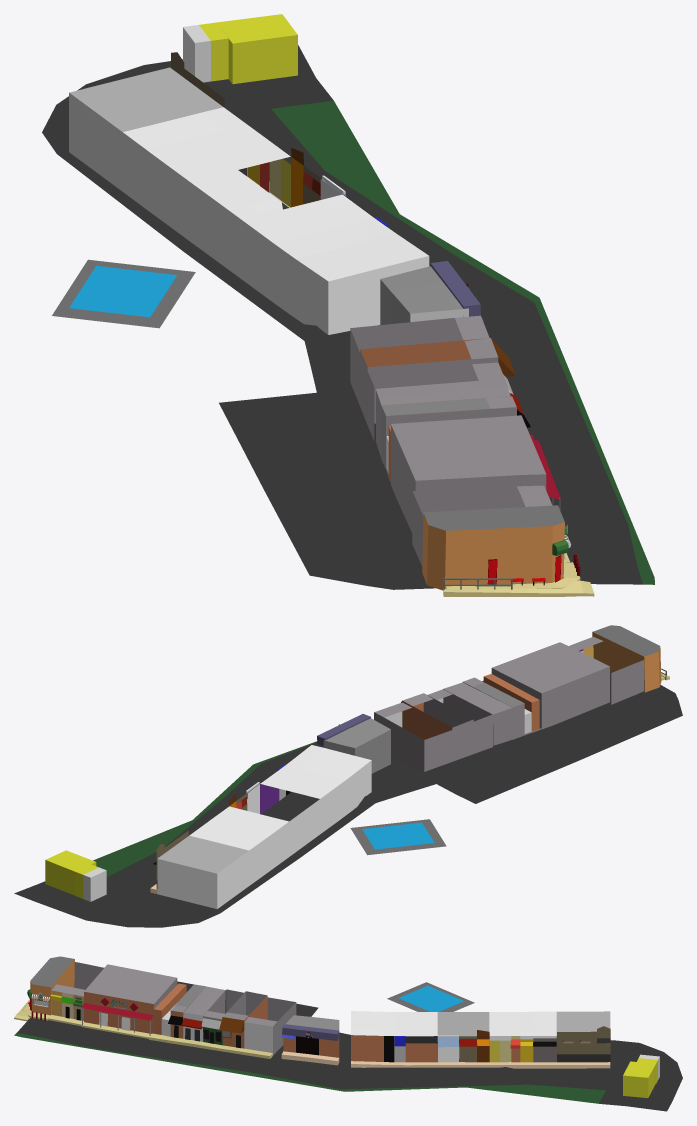
Rendered from shops24.glb.
3 renders of one model, top to bottom at view 1: azimuth 30°, elevation 25°; view 2: azimuth 150°, elevation 25°; view 3: azimuth 270°, elevation 25°, orthographic. The views are drawn at different scales.
Parts seen in each view (by area): view 1: Plane.001, Plane.022, Plane.018, Plane.017, Plane.010, Plane.015, Plane.005, Cube; view 2: Plane.001, Plane.022, Plane.017, Plane.018, Plane.015, Plane.016, Plane.010, Cube; view 3: Plane.001, Plane.022, Plane.017, Plane.018, Plane.015, Plane.016, Plane.010, Cube, Plane.019.
Part boxes in pixels (<box>): Plane.001: <box>42,14,654,589</box>; Plane.022: <box>391,415,561,532</box>; Plane.018: <box>422,505,580,590</box>; Plane.017: <box>360,338,515,423</box>; Plane.010: <box>381,396,530,468</box>; Plane.015: <box>376,378,522,457</box>; Plane.005: <box>443,578,594,596</box>; Cube: <box>430,261,484,321</box>; Plane.001: <box>14,636,682,927</box>; Plane.022: <box>491,642,609,729</box>; Plane.017: <box>401,693,473,760</box>; Plane.018: <box>592,625,661,692</box>; Plane.015: <box>443,682,512,745</box>; Plane.016: <box>483,674,539,733</box>; Plane.010: <box>463,677,524,738</box>; Cube: <box>317,714,370,746</box>; Plane.001: <box>14,962,682,1111</box>; Plane.022: <box>81,964,177,1035</box>; Plane.017: <box>185,991,267,1048</box>; Plane.018: <box>27,956,74,1020</box>; Plane.015: <box>181,986,225,1041</box>; Plane.016: <box>154,983,186,1036</box>; Plane.010: <box>168,984,205,1038</box>; Cube: <box>281,1024,339,1040</box>; Plane.019: <box>81,1022,150,1038</box>.
Bounding box in the file's own units: 0.2633 × 0.0377 × 0.5493.
Materials: 60 (3 with a texture image).
